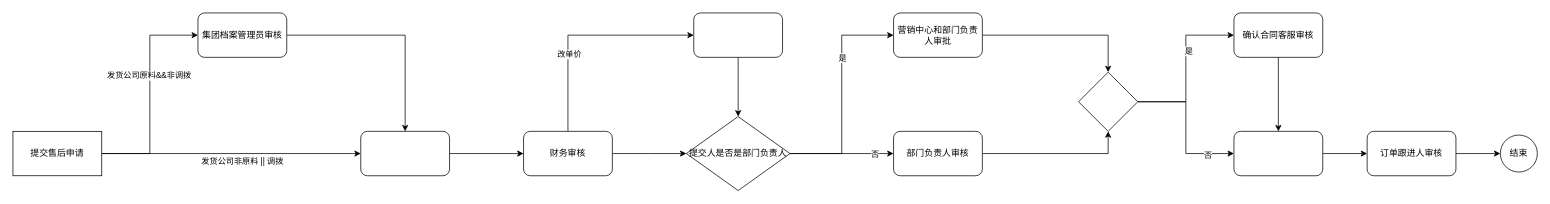
The diagram is 1550 pixels wide and 204 high, and some of its shapes have lost their labels. Each missing label, with the centre of its shape:
"产品经理审核" belongs at point 738,34.
"仓储审核" belongs at point 1278,153.
"是否调拨" belongs at point 1108,101.
"确定订单客服审核" belongs at point 405,153.
